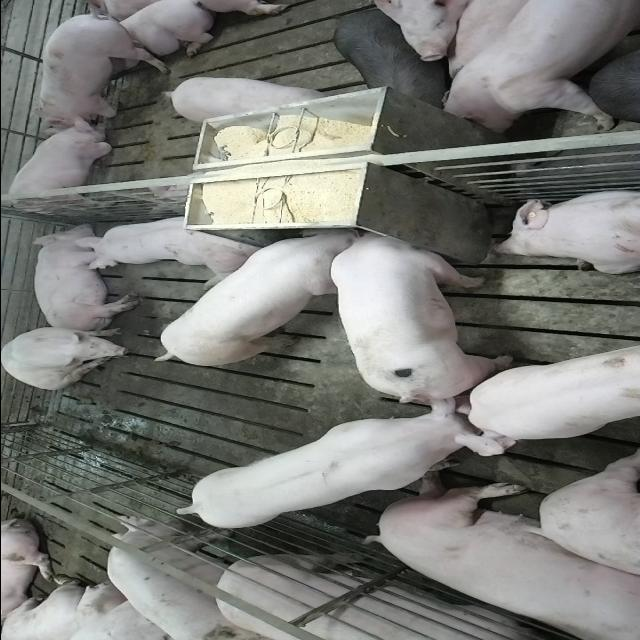Feeding: (329, 221, 513, 397), (144, 230, 358, 370)
Lateral_lying: (28, 222, 140, 333)
Sitting: (0, 122, 124, 218), (3, 325, 137, 389)
Standing: (174, 394, 516, 530), (206, 552, 594, 640), (440, 2, 640, 134), (463, 338, 640, 449), (101, 518, 255, 640), (27, 13, 166, 128), (330, 10, 446, 104), (158, 72, 332, 121)
Sternal_lying: (489, 186, 640, 274), (74, 210, 260, 280), (82, 1, 212, 75)
